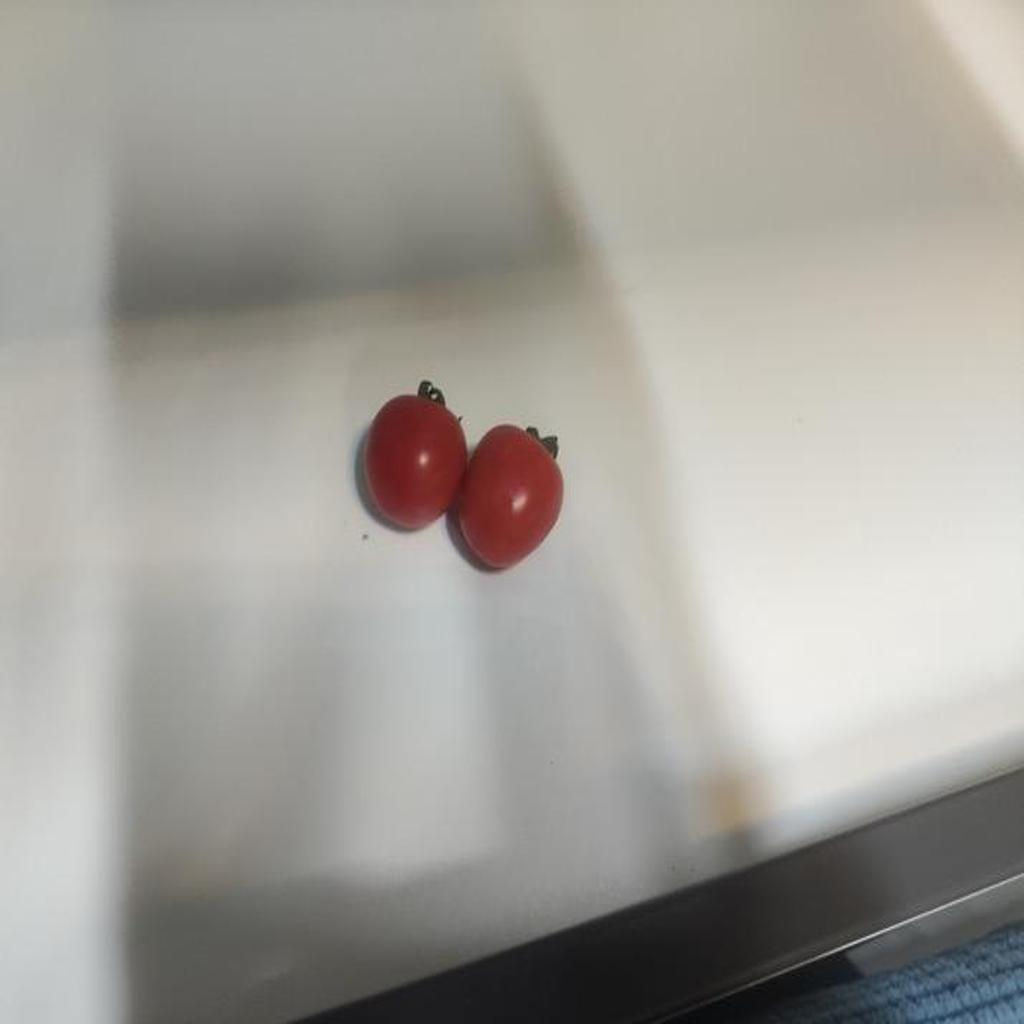tomato: (468, 414, 566, 569), (365, 385, 461, 527)
